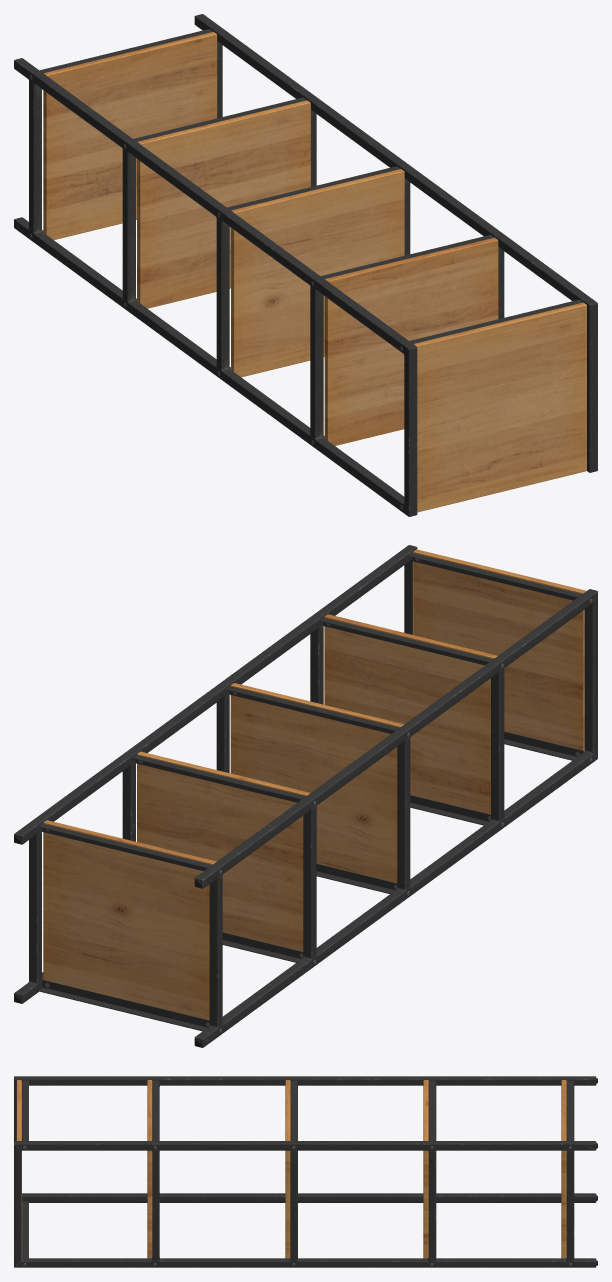
Rendered from steel_frame_shelves_02.glb.
3 views of the same model, one above another, from view 1: azimuth 30°, elevation 25°; view 2: azimuth 150°, elevation 25°; view 3: azimuth 270°, elevation 25° (orthographic). The views are drawn at different scales.
Parts seen in each view (by area): view 1: steel_frame_shelves_02; view 2: steel_frame_shelves_02; view 3: steel_frame_shelves_02.
Boxes of the visible parts, bbox=[...] form: steel_frame_shelves_02: bbox=[14, 14, 597, 516]; steel_frame_shelves_02: bbox=[14, 545, 597, 1047]; steel_frame_shelves_02: bbox=[14, 1076, 597, 1267].
Bounding box in the file's own units: 0.5933 × 0.5024 × 2.14.
1 material, 1 textured.
